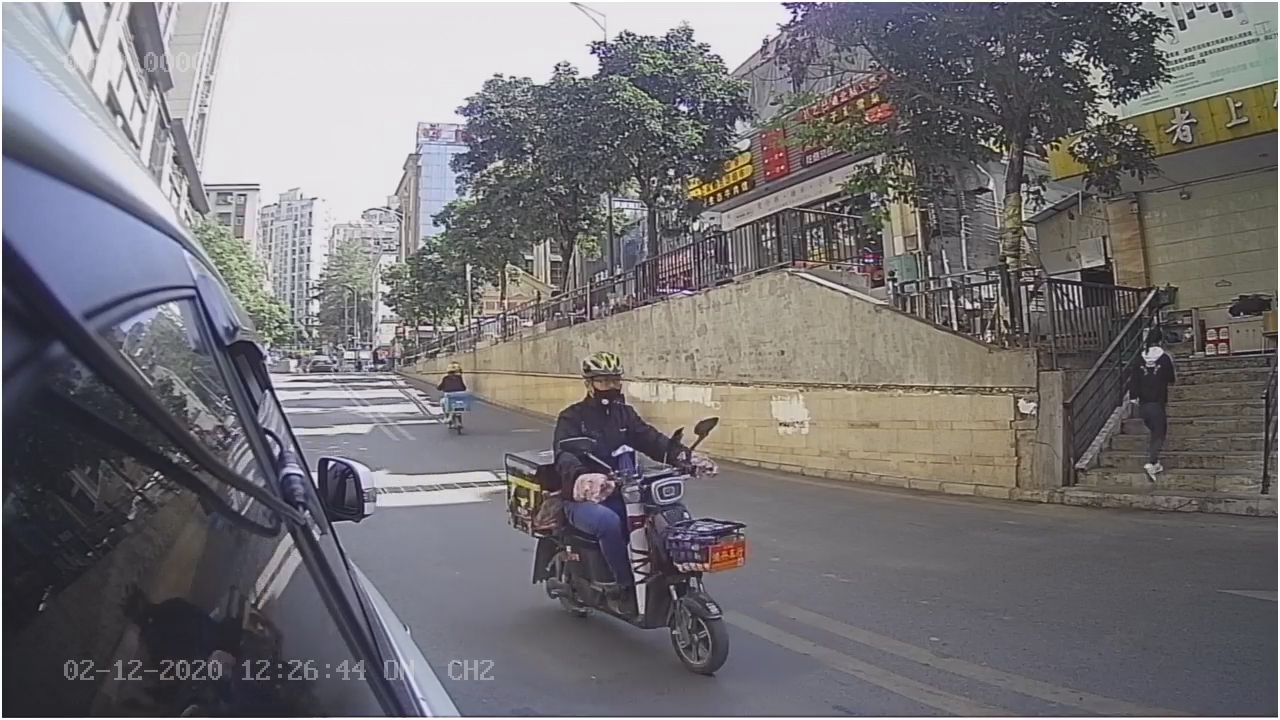person: (555, 344, 655, 481)
